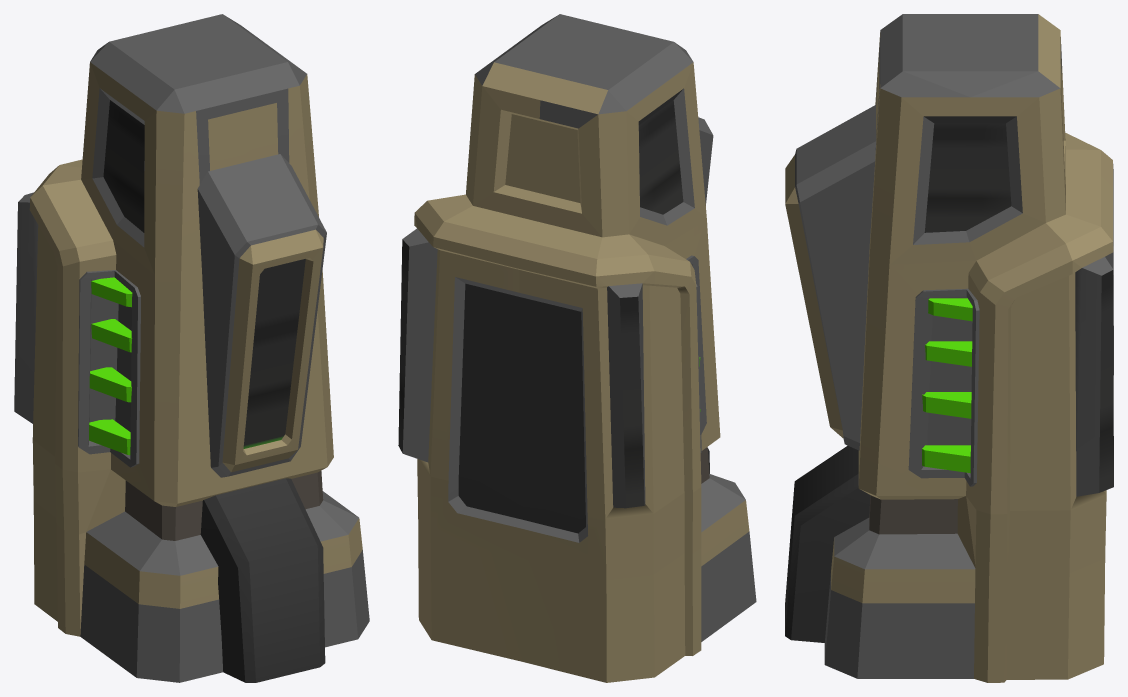
Rendered from Tower2.fbx.
The picture shows the model from 3 angles, left to right: view 1: azimuth 30°, elevation 25°; view 2: azimuth 150°, elevation 25°; view 3: azimuth 270°, elevation 25°; orthographic projection. The views are drawn at different scales.
Visible parts, largest first — view 1: Mesh_polySurface87; view 2: Mesh_polySurface87; view 3: Mesh_polySurface87.
Part boxes in pixels (box(x1,y1,x2,y2)): Mesh_polySurface87: box(14, 14, 369, 682); Mesh_polySurface87: box(398, 14, 756, 682); Mesh_polySurface87: box(785, 14, 1113, 682).
Size of the model in its own units: 2.97 by 6.27 by 3.23.
